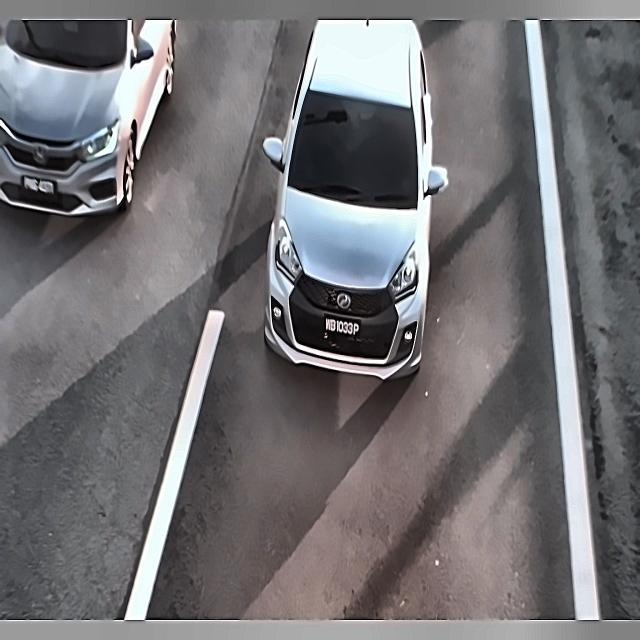car: (315, 306, 366, 343), (17, 168, 66, 204)
